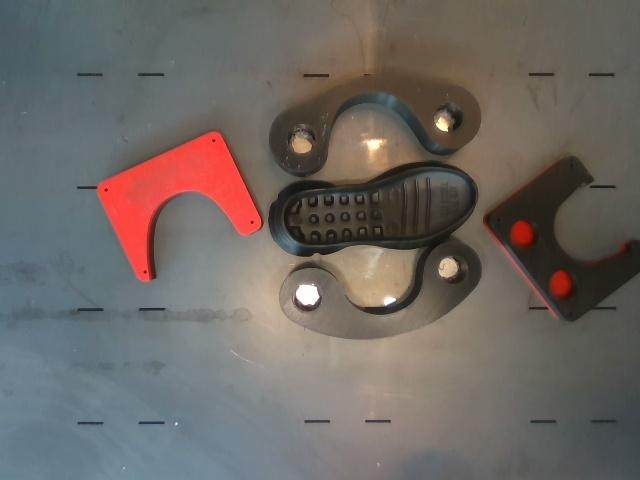shoes: (283, 168, 476, 246)
